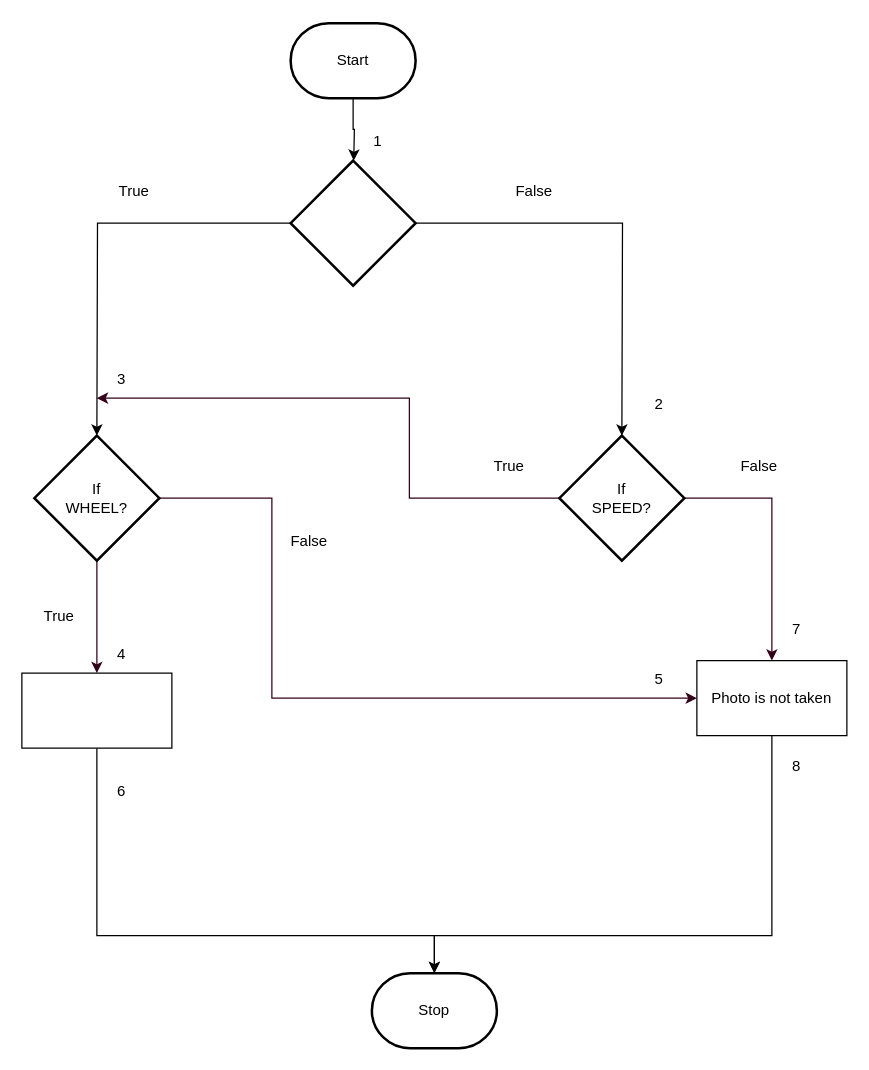
Image size: 869x1070. Some labels were removed from this diagram. The shapes that lost their labels are listed below. From the top down, each one's centre as x and y in pixels, then its label:
(352,222): If Red?
(96,710): Photo is taken
